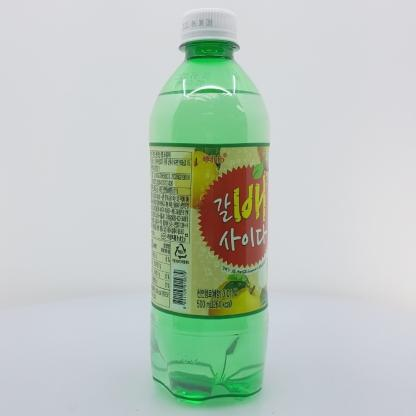-------500ML: (148, 8, 270, 405)
